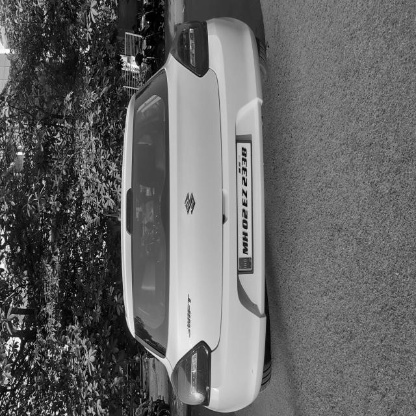car: (1, 249, 192, 416)
